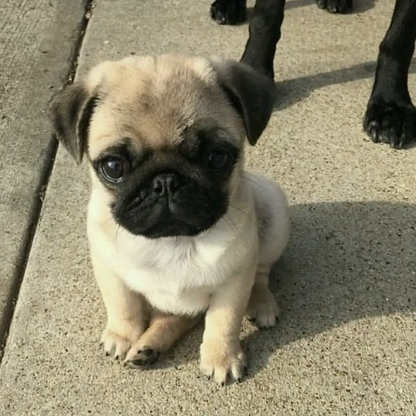Pug: (41, 46, 311, 388)
